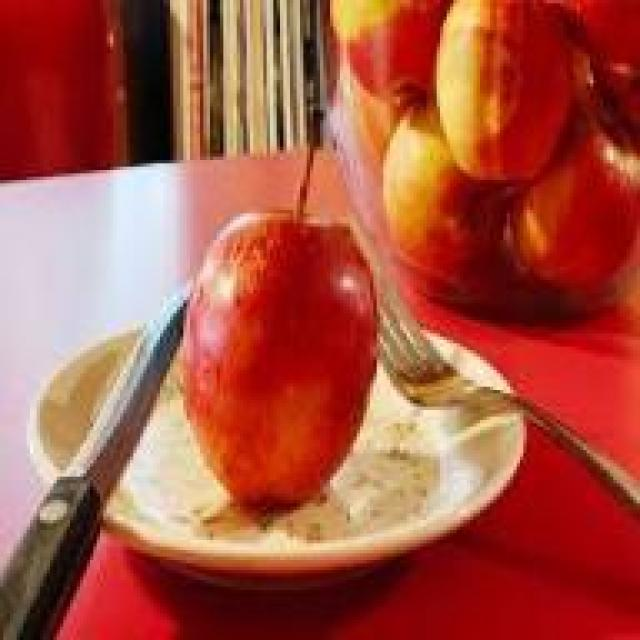apple: (190, 197, 370, 500), (373, 93, 500, 287), (440, 3, 557, 177)
